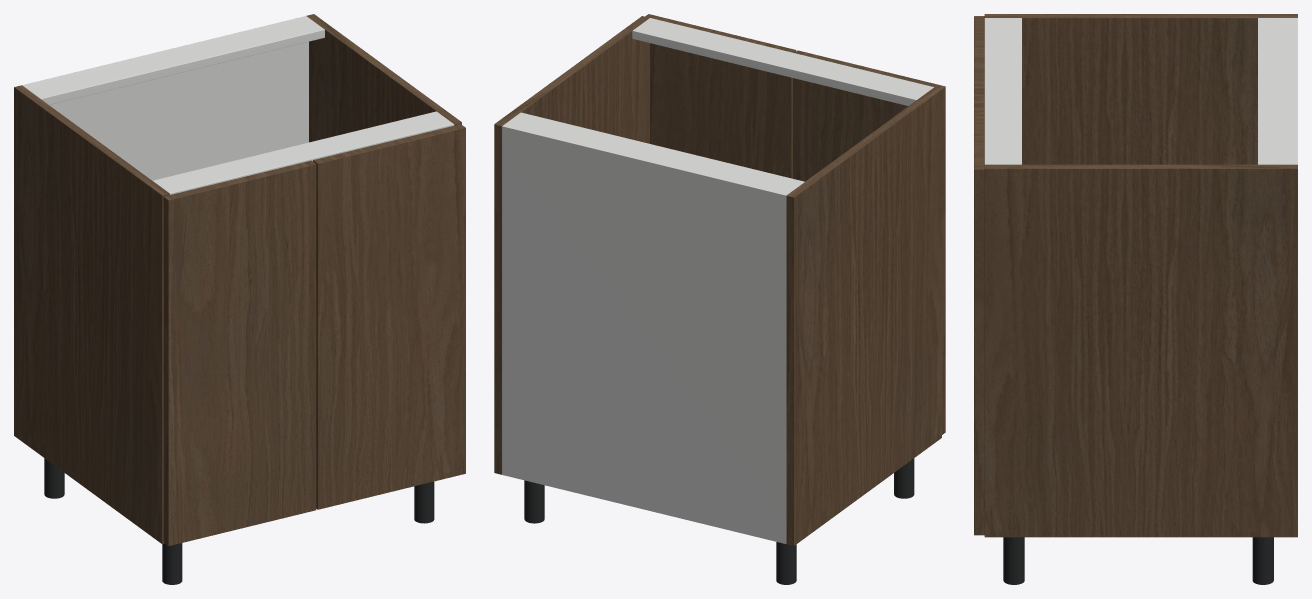
The model's file is oppein-pb-mso-b27fh.glb.
The picture shows the model from 3 angles, left to right: view 1: azimuth 30°, elevation 25°; view 2: azimuth 150°, elevation 25°; view 3: azimuth 270°, elevation 25°; orthographic projection. The views are drawn at different scales.
Parts seen in each view (by area): view 1: Door, Cabinet side, Door.001, Cabinet back, Cabinet side.001, Top support rail, Top support rail.001, Adjustable foot.001, Adjustable foot.003, Adjustable foot; view 2: Cabinet back, Cabinet side, Door.001, Cabinet side.001, Door, Top support rail.001, Top support rail, Adjustable foot, Adjustable foot.002, Adjustable foot.001; view 3: Cabinet side.001, Cabinet side, Top support rail.001, Top support rail, Door.001, Adjustable foot.003, Adjustable foot.002, Cabinet back, Door.
Boxes of the visible parts, <box> form: Door: <box>163,160,316,546</box>; Cabinet side: <box>14,85,169,544</box>; Door.001: <box>313,124,465,509</box>; Cabinet back: <box>22,16,308,180</box>; Cabinet side.001: <box>306,14,461,142</box>; Top support rail: <box>23,18,324,104</box>; Top support rail.001: <box>153,111,454,194</box>; Adjustable foot.001: <box>162,543,182,584</box>; Adjustable foot.003: <box>414,481,434,523</box>; Adjustable foot: <box>44,458,64,498</box>; Cabinet back: <box>502,124,788,543</box>; Cabinet side: <box>786,87,941,545</box>; Door.001: <box>645,14,796,178</box>; Cabinet side.001: <box>494,16,649,474</box>; Door: <box>793,50,945,434</box>; Top support rail.001: <box>632,18,933,105</box>; Top support rail: <box>505,112,804,194</box>; Adjustable foot: <box>776,542,796,584</box>; Adjustable foot.002: <box>524,480,544,523</box>; Adjustable foot.001: <box>894,458,914,498</box>; Cabinet side.001: <box>984,164,1297,537</box>; Cabinet side: <box>984,14,1297,164</box>; Top support rail.001: <box>984,18,1021,164</box>; Top support rail: <box>1258,18,1291,164</box>; Door.001: <box>974,93,984,535</box>; Adjustable foot.003: <box>1003,537,1024,584</box>; Adjustable foot.002: <box>1252,537,1273,584</box>; Cabinet back: <box>1292,18,1297,164</box>; Door: <box>974,16,984,93</box>.
Size of the model in its own units: 0.6858 by 0.8763 by 0.6064.
3 materials, 1 textured.
